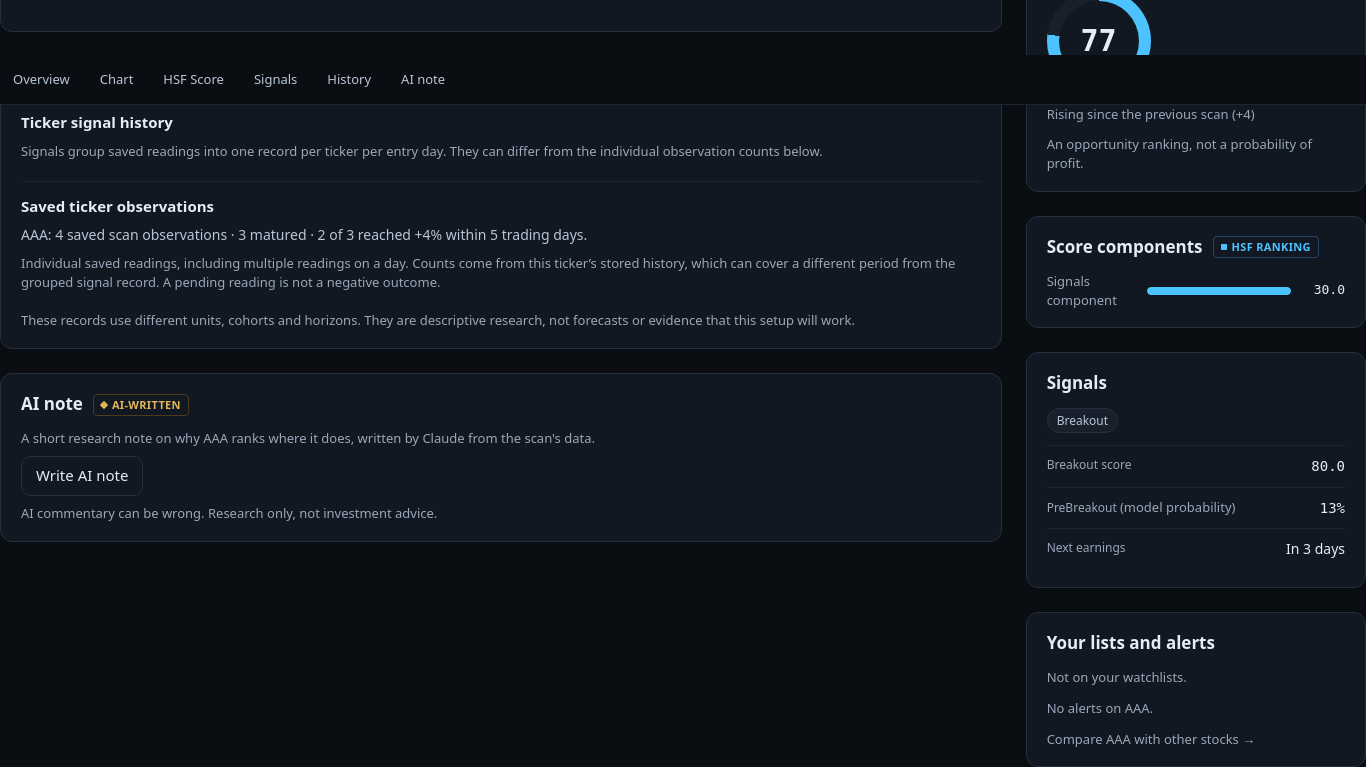
Test: Stock detail: trade plan and AI note › Premium: writes an AI note on request, and shows the daily limit message
The width and height of the screenshot is (1366, 767).
(page scrolled)
Step 1. Click the button "Write AI note" → coordinates (82, 476), box top-left (21, 456), bottom-right (143, 496)
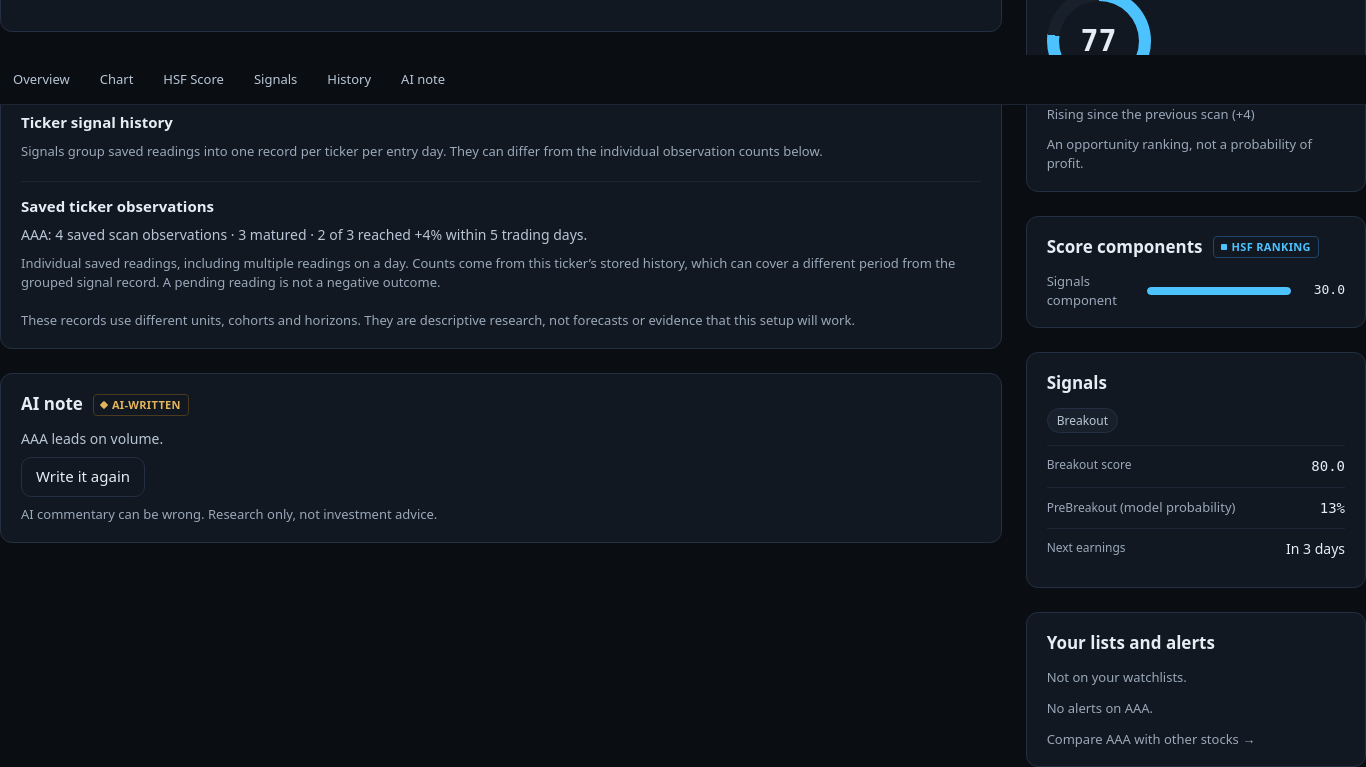
Now the text "AAA leads on volume." is shown, box top-left (21, 429), bottom-right (163, 448)
Step 2. Click the button "Write it again" → coordinates (83, 477), box top-left (21, 457), bottom-right (145, 497)
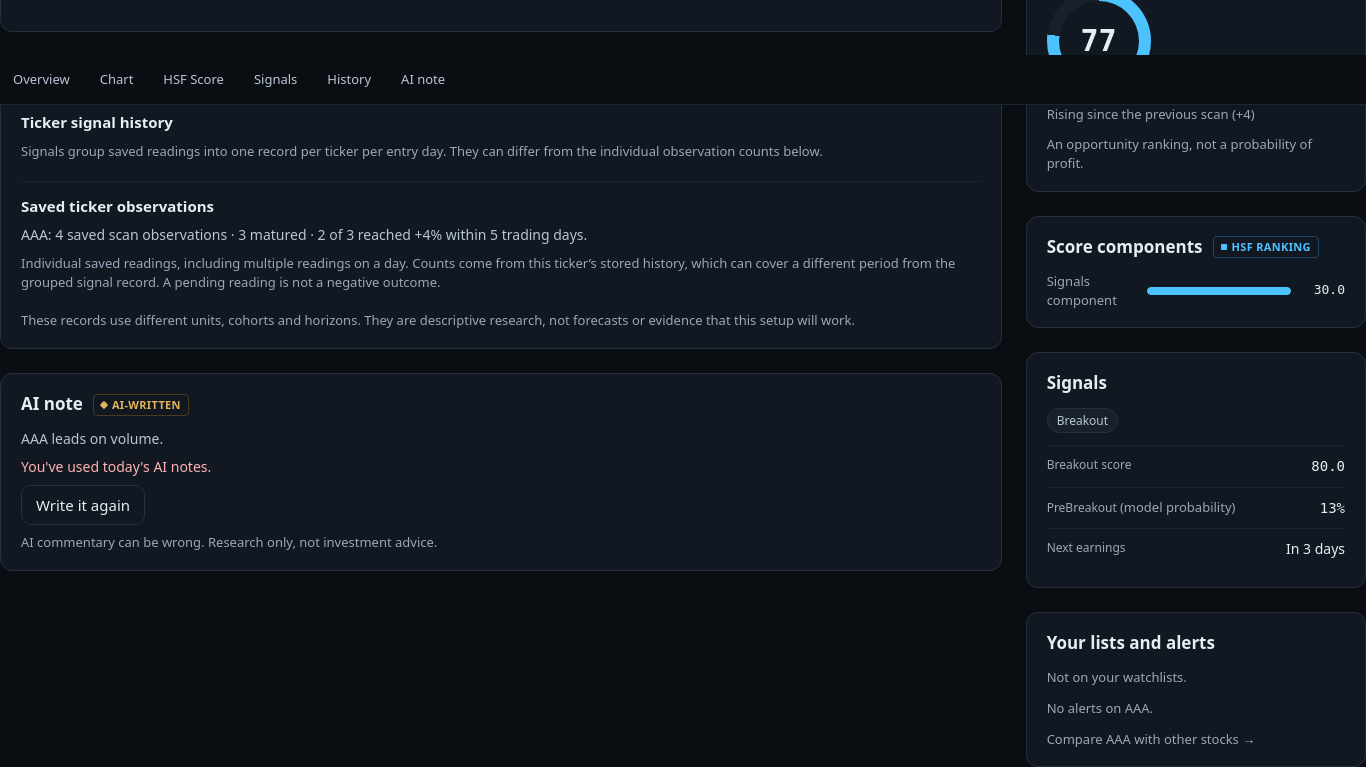
Now the message reads "You've used today's AI notes.", box top-left (21, 457), bottom-right (211, 476)
